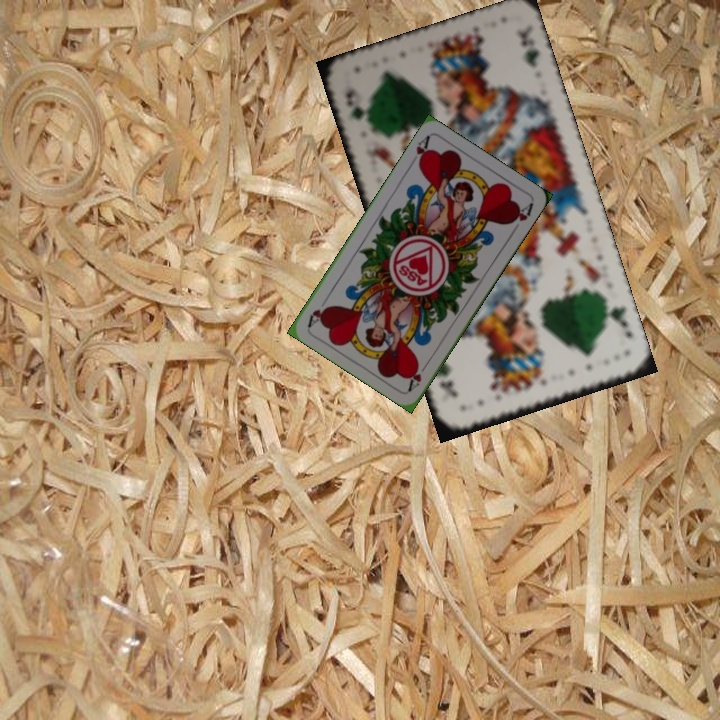GK: (341, 85, 374, 133), (600, 297, 635, 341)
HA: (404, 357, 432, 393), (406, 132, 432, 170)
